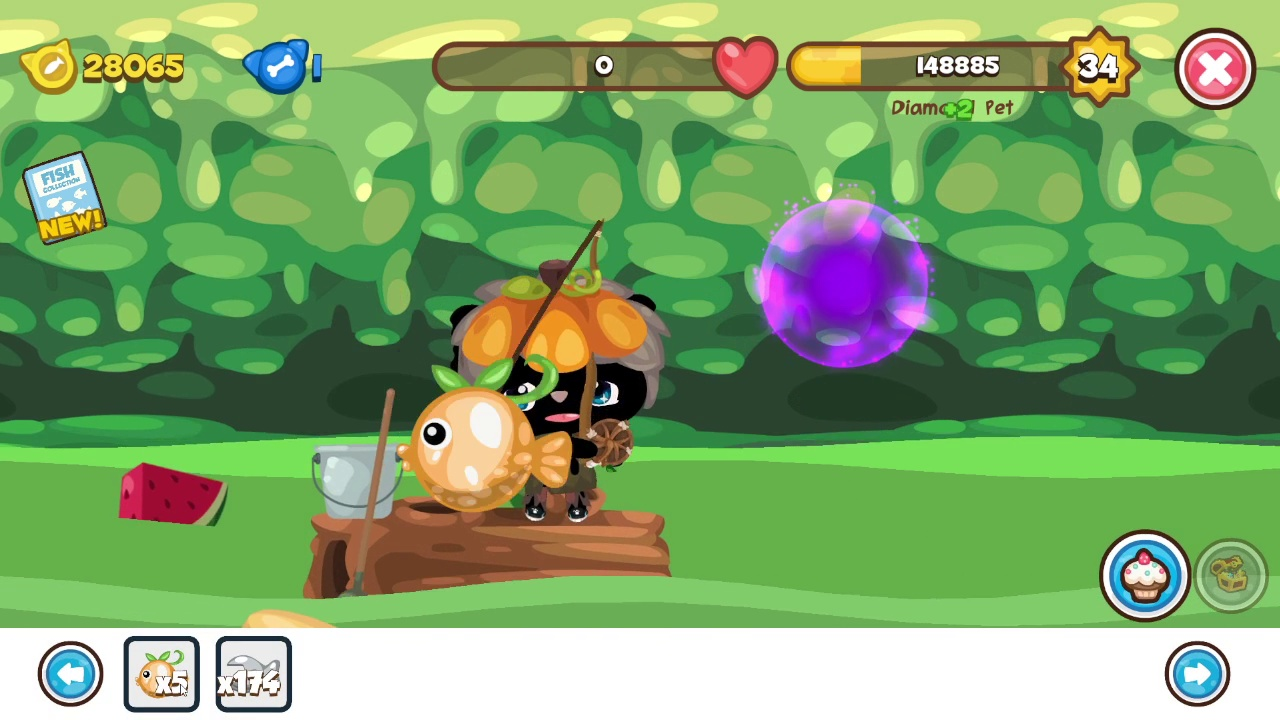point: (757, 197, 933, 370)
